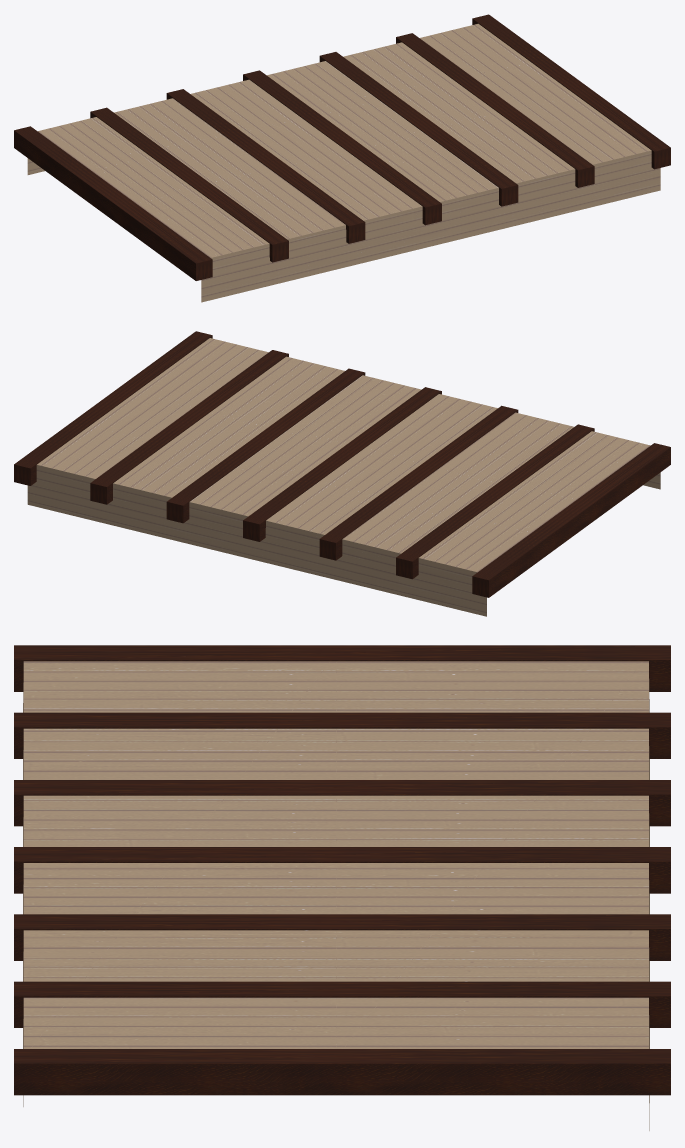
Rendered from CeilingBeamed1.fbx.
3 renders of one model, top to bottom at view 1: azimuth 30°, elevation 25°; view 2: azimuth 150°, elevation 25°; view 3: azimuth 270°, elevation 25°, orthographic. The views are drawn at different scales.
Visible parts, largest first — view 1: CeilingBeam1; view 2: CeilingBeam1; view 3: CeilingBeam1.
Boxes of the visible parts, x1,y1,x2,y2 form: CeilingBeam1: (14, 14, 670, 302); CeilingBeam1: (14, 331, 670, 616); CeilingBeam1: (14, 645, 670, 1130).
Bounding box in the file's own units: 623 × 53.43 × 413.
